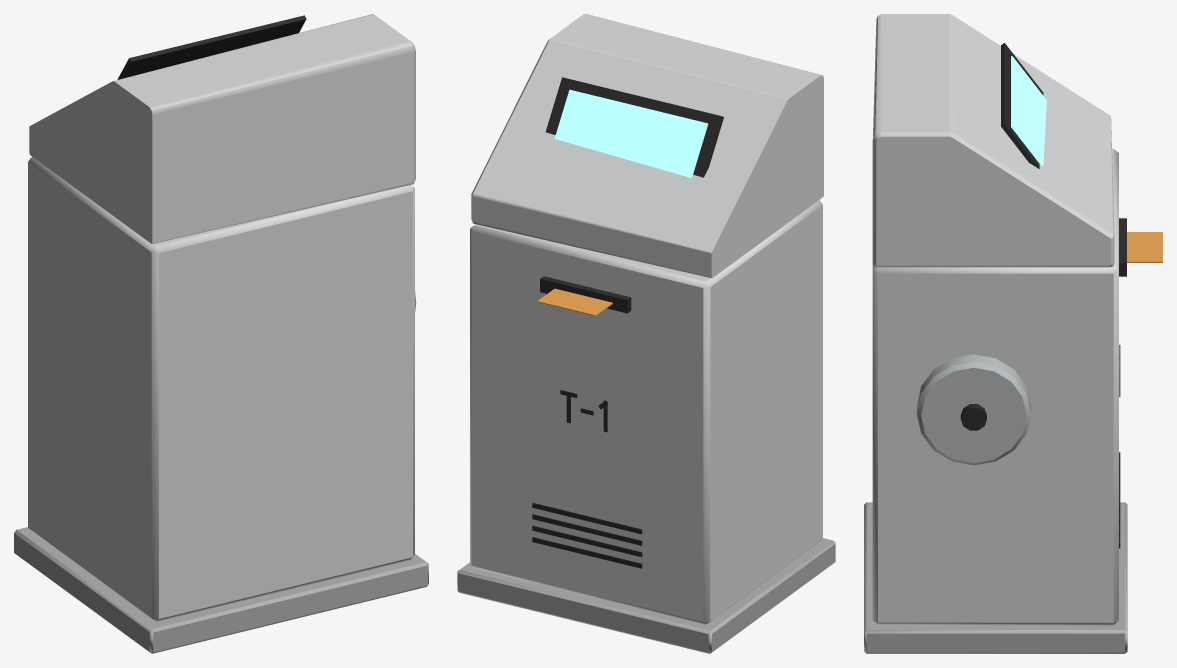
File: depot_tagger.glb
The picture shows the model from 3 angles, left to right: view 1: azimuth 30°, elevation 25°; view 2: azimuth 150°, elevation 25°; view 3: azimuth 270°, elevation 25°; orthographic projection. The views are drawn at different scales.
Parts seen in each view (by area): view 1: static_tagger; view 2: static_tagger; view 3: static_tagger.
Part boxes in pixels (x1,y1,x2,y2): static_tagger: [14, 14, 428, 653]; static_tagger: [457, 14, 835, 653]; static_tagger: [864, 14, 1162, 653].
Bounding box in the file's own units: 0.76 × 1.3 × 0.68.
